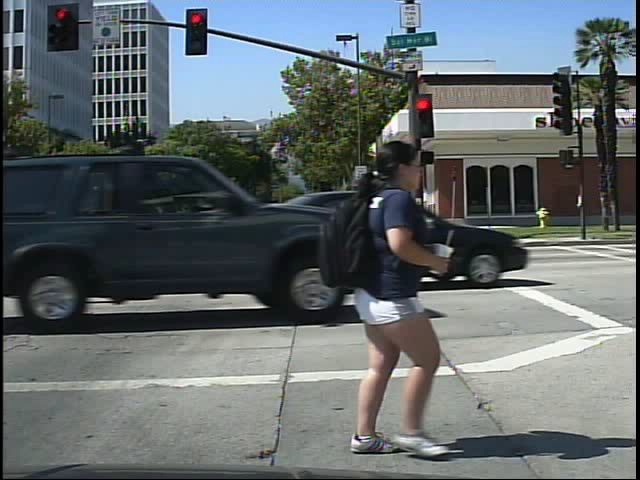person: (304, 132, 458, 460)
